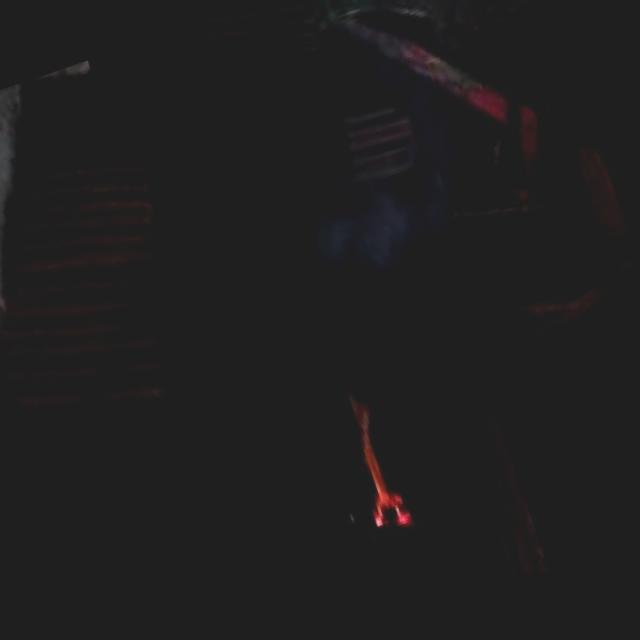fire: (299, 367, 442, 570)
